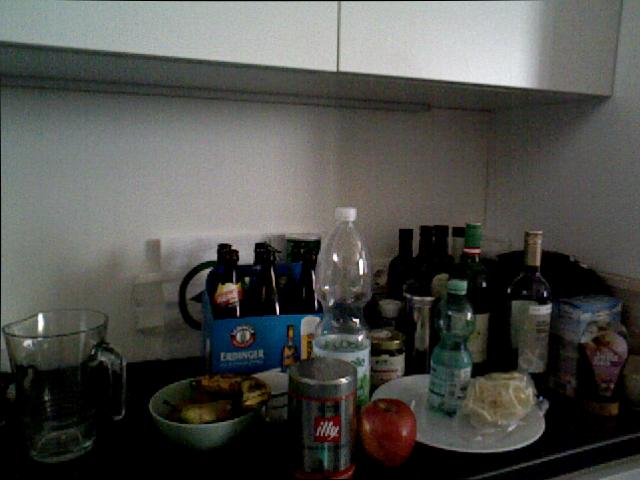bench: (319, 205, 372, 400), (506, 229, 553, 375), (450, 221, 492, 372), (434, 281, 472, 407), (246, 241, 279, 316), (386, 227, 415, 301), (288, 241, 317, 315), (214, 242, 241, 319), (416, 226, 440, 297), (281, 323, 301, 375)
bicycle: (359, 397, 417, 466)
bird: (147, 375, 268, 450)
handbag: (1, 308, 127, 463)
motorcycle: (198, 374, 266, 405)
